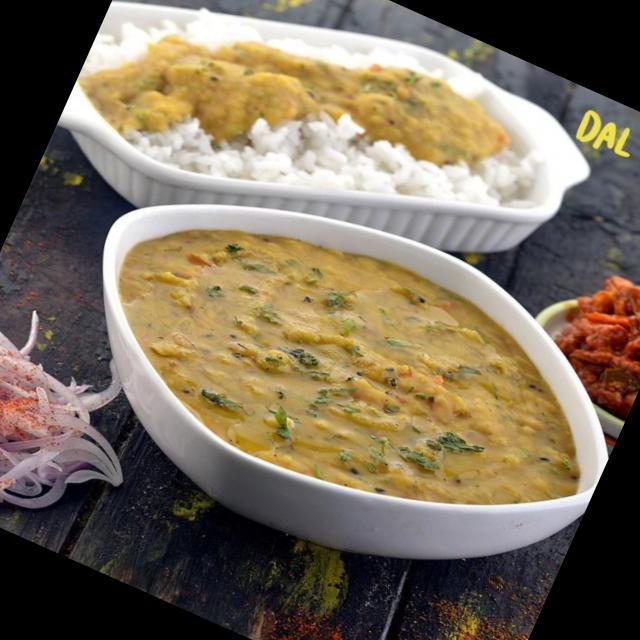dal: (70, 164, 612, 578), (156, 13, 476, 199)
rice: (78, 0, 595, 278)
